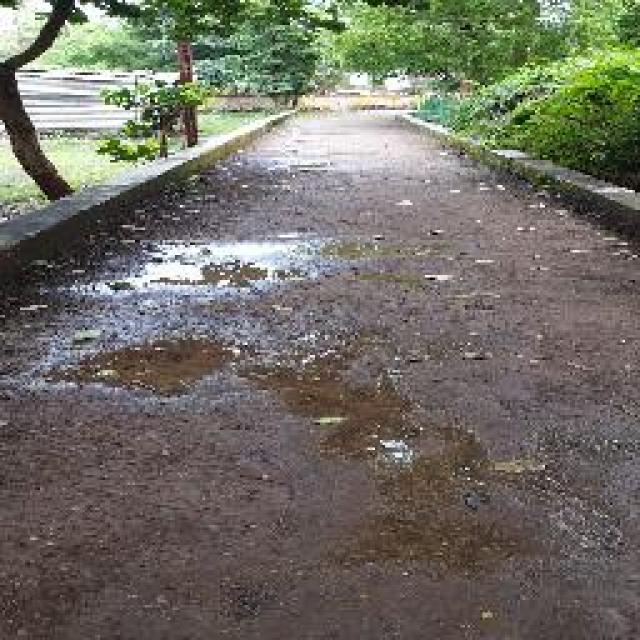waterlogging: (146, 214, 332, 303)
